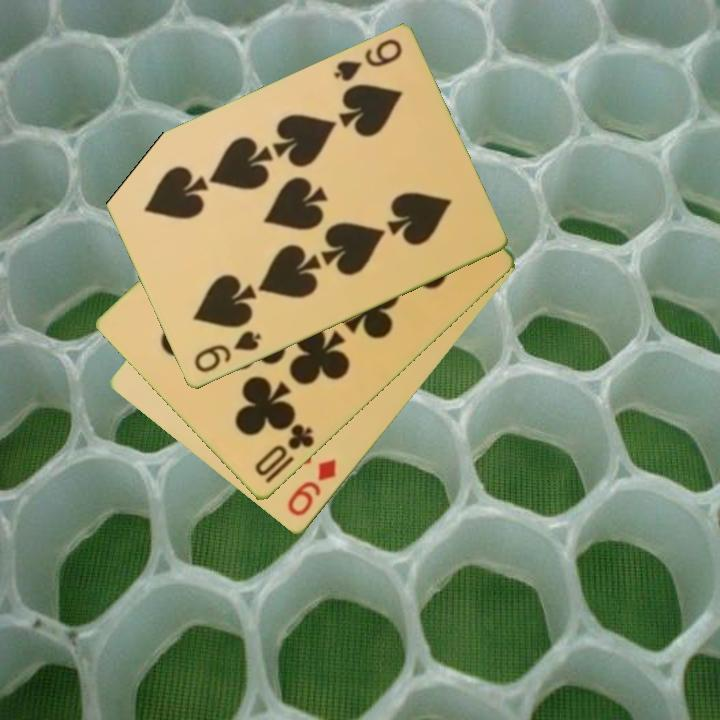10c: (251, 421, 318, 480)
9d: (284, 456, 340, 520)
9s: (330, 35, 405, 86), (190, 327, 265, 377)
